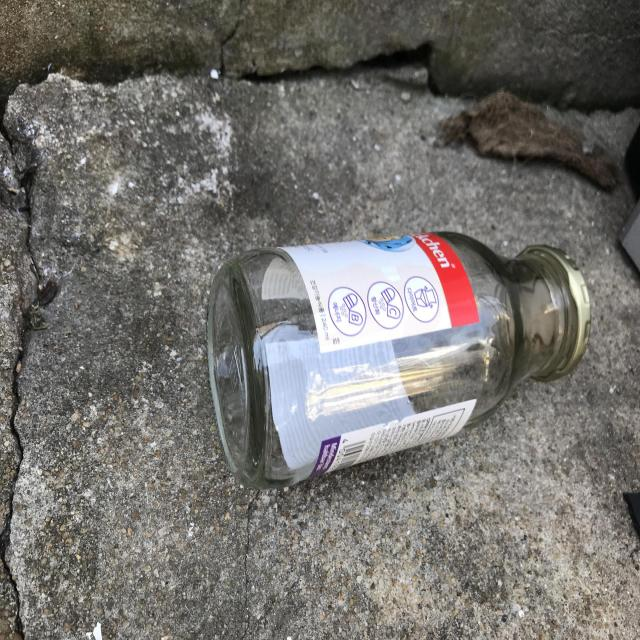glass: (207, 232, 592, 488)
